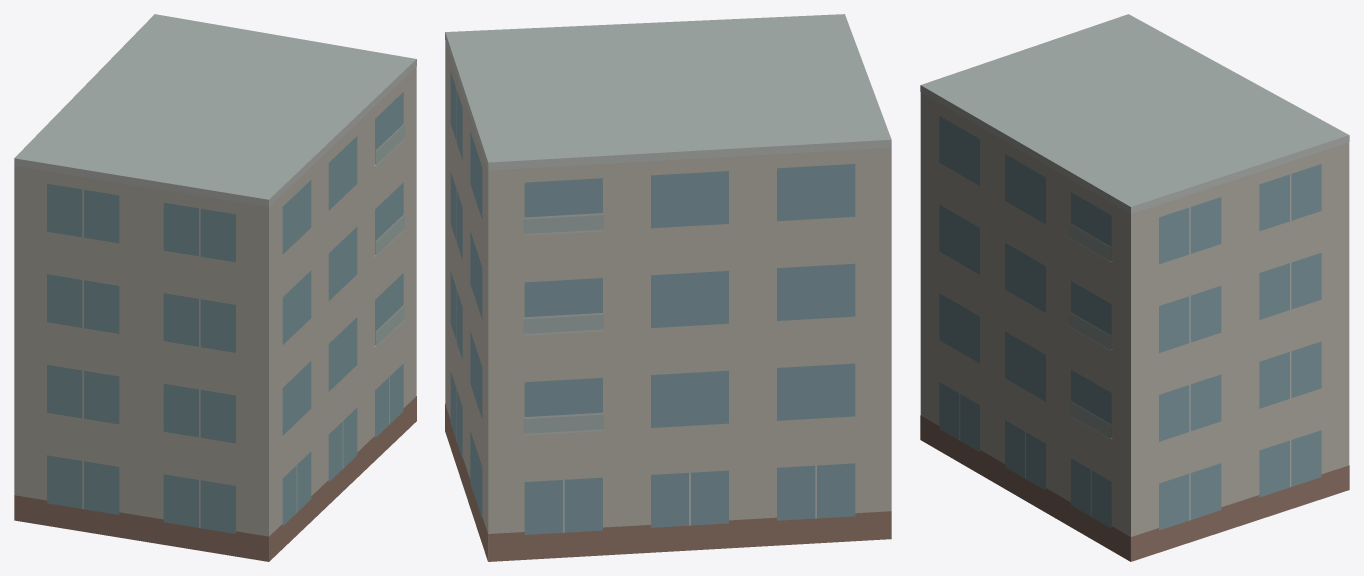
Rendered from survey-upis-32656649.glb.
The picture shows the model from 3 angles, left to right: view 1: azimuth 30°, elevation 25°; view 2: azimuth 150°, elevation 25°; view 3: azimuth 270°, elevation 25°; orthographic projection. The views are drawn at different scales.
Visible parts, largest first — view 1: survey-upis-32656649.tmp; view 2: survey-upis-32656649.tmp; view 3: survey-upis-32656649.tmp.
Boxes of the visible parts, bbox=[...] form: survey-upis-32656649.tmp: bbox=[14, 14, 416, 561]; survey-upis-32656649.tmp: bbox=[445, 14, 891, 561]; survey-upis-32656649.tmp: bbox=[920, 14, 1349, 561].
Bounding box in the file's own units: 14.36 × 12.3 × 13.48.
